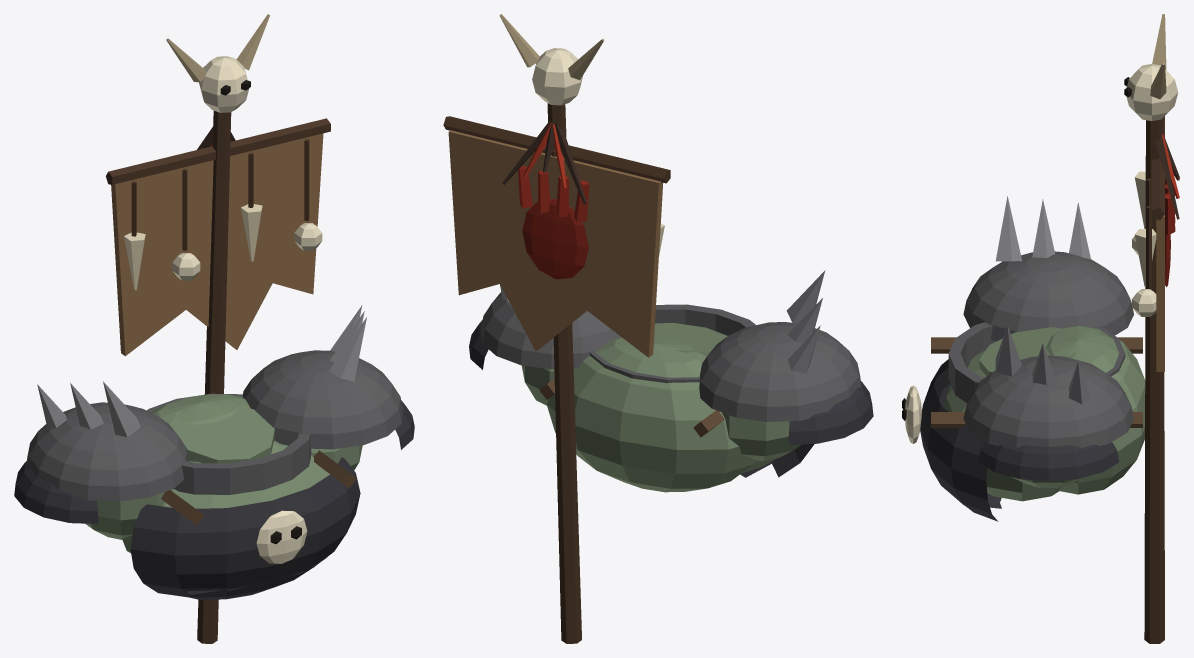
Rendered from stonebrow_warlord_chest.glb.
3 views of the same model, side by side, from view 1: azimuth 30°, elevation 25°; view 2: azimuth 150°, elevation 25°; view 3: azimuth 270°, elevation 25° (orthographic).
Visible parts, largest first — view 1: stonebrow_warlord_chest; view 2: stonebrow_warlord_chest; view 3: stonebrow_warlord_chest.
Part boxes in pixels (<box>): stonebrow_warlord_chest: <box>14,14,414,643</box>; stonebrow_warlord_chest: <box>443,14,873,643</box>; stonebrow_warlord_chest: <box>902,14,1179,643</box>.
Bounding box in the file's own units: 1.5 × 2.28 × 0.9443.
